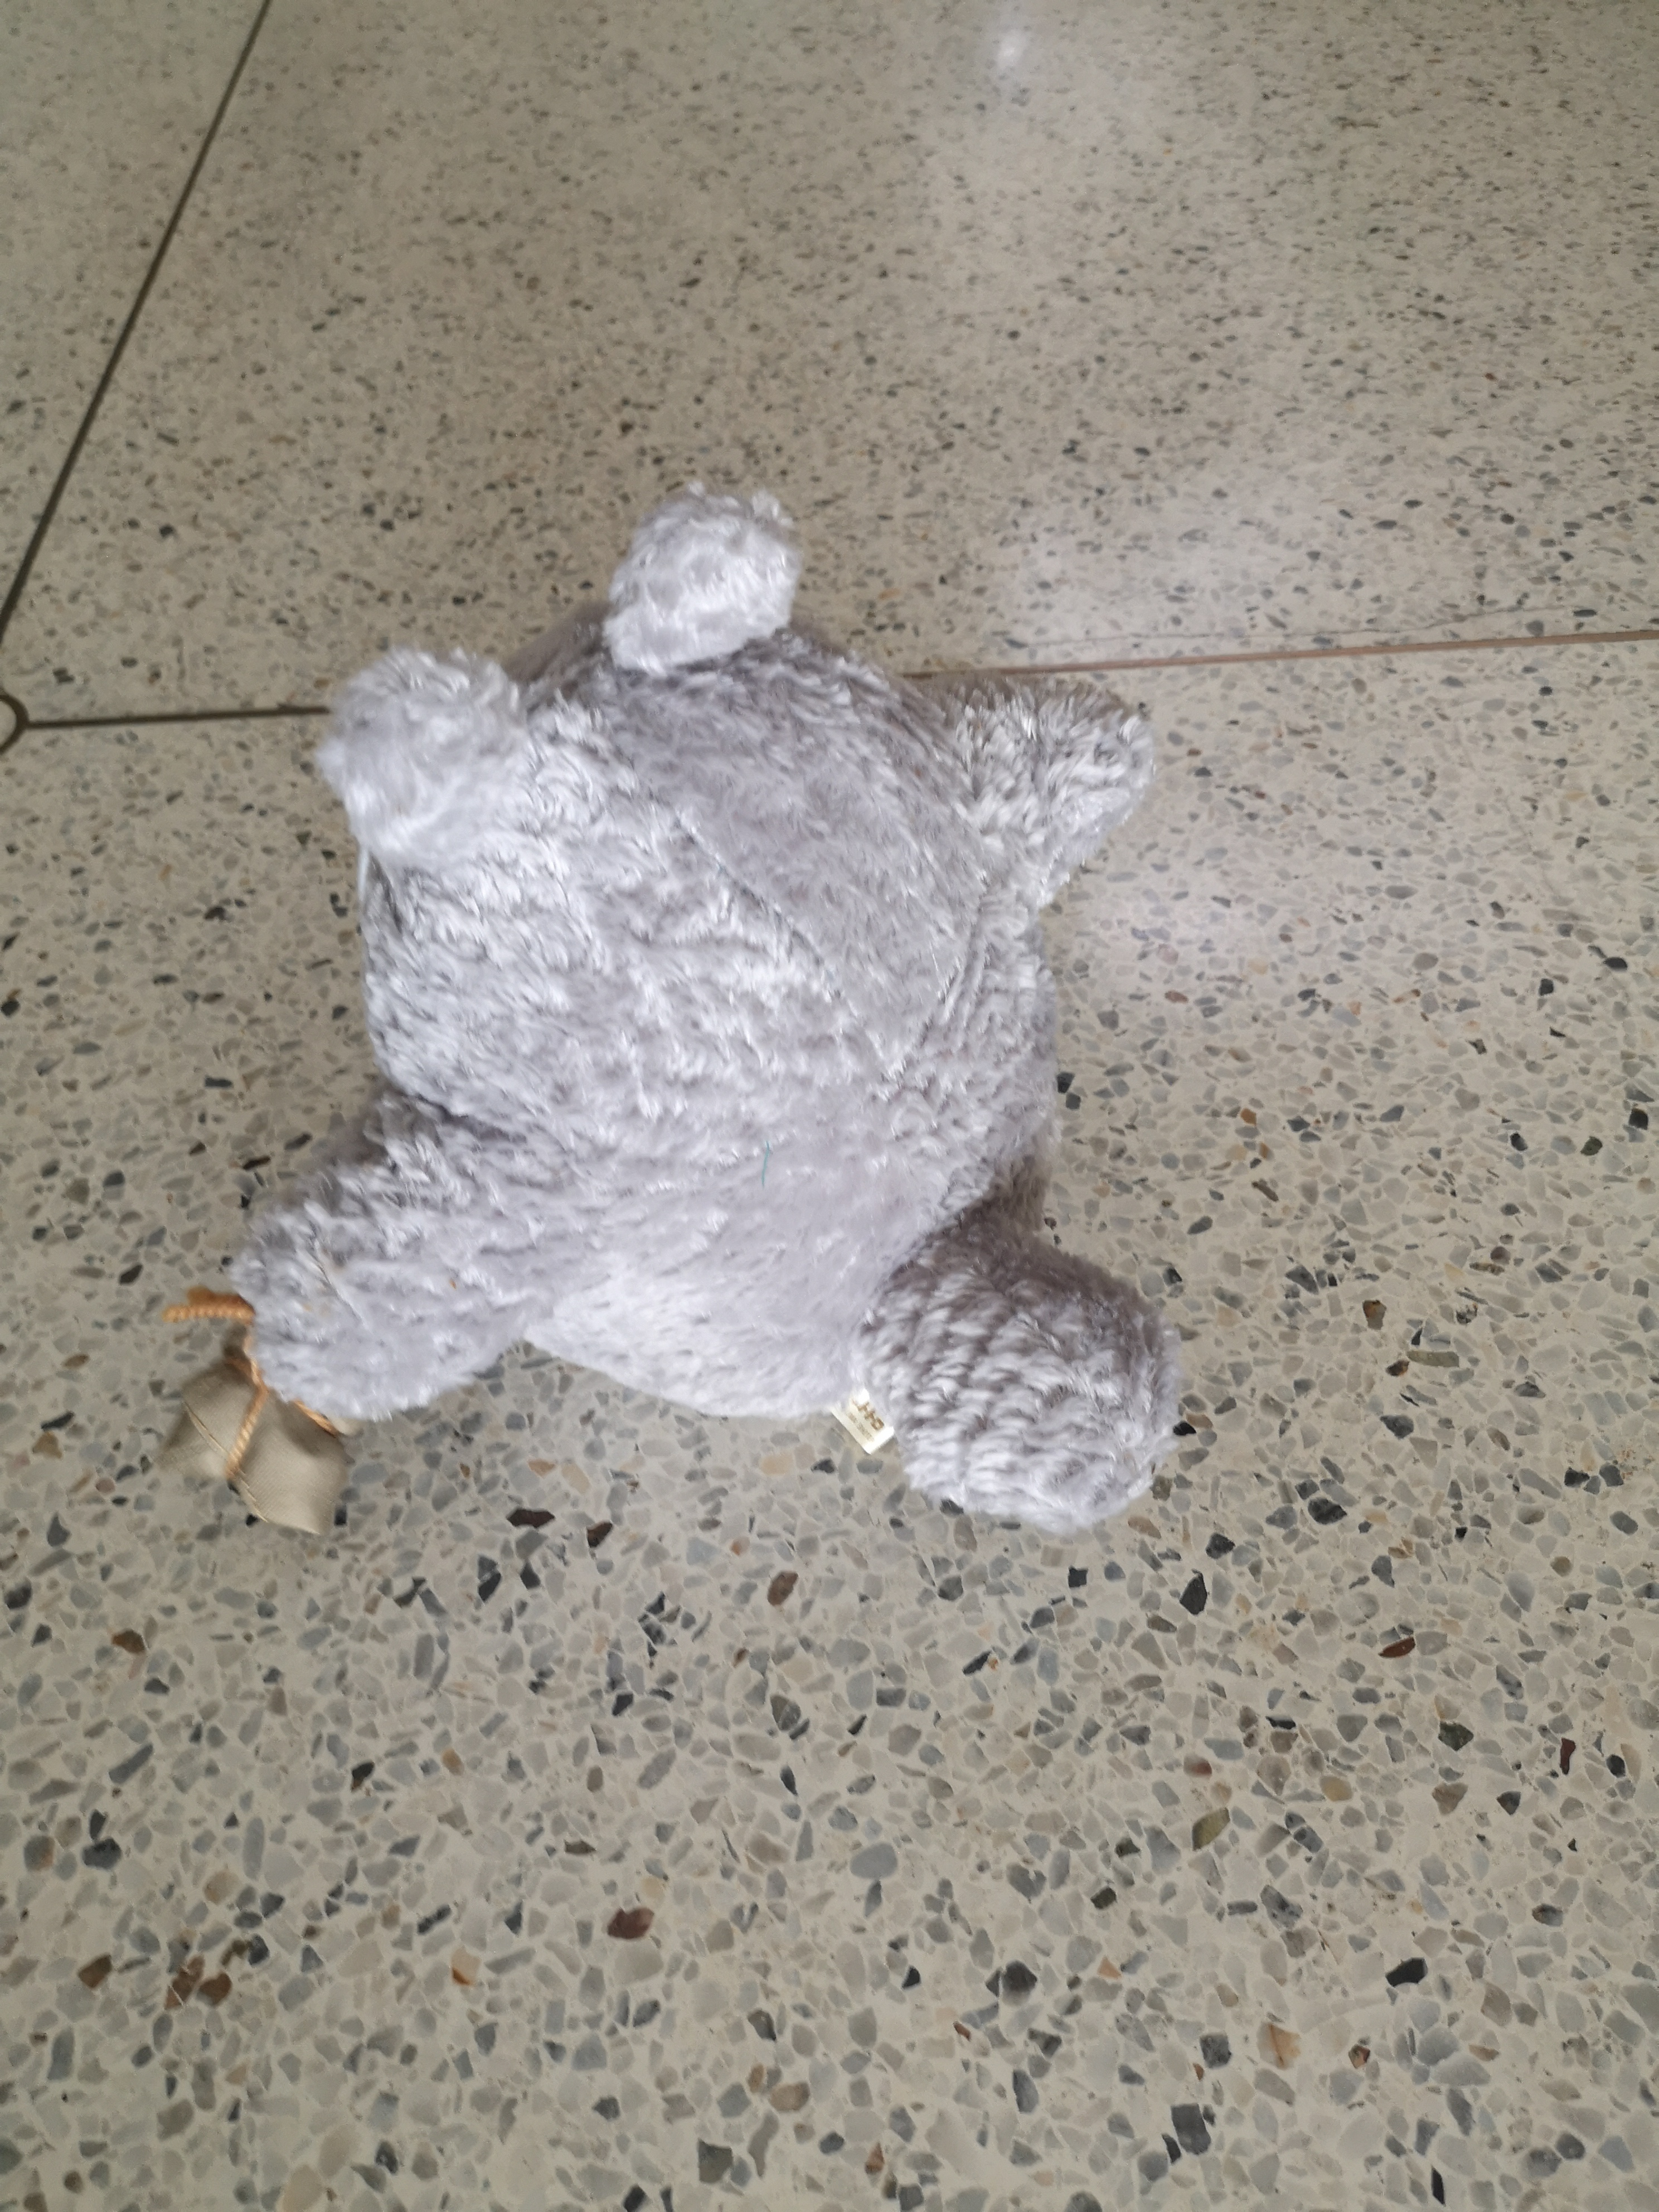totoro: (141, 472, 1201, 1559)
